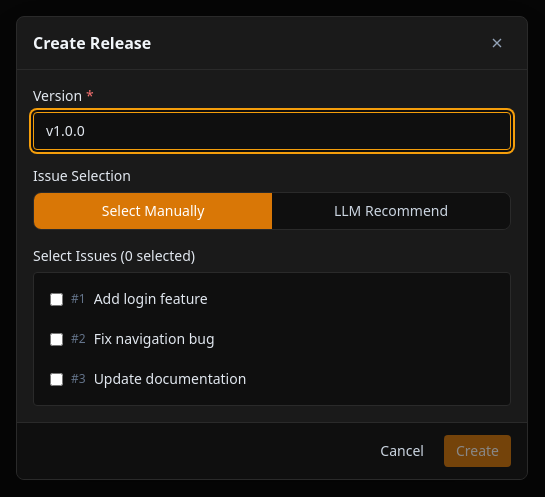
CreateReleaseDialog › Dialog actions › should have Create button enabled when version is valid and issue is selected
This screenshot has width=545, height=497.
Expected: the button "Create" is disabled, [444,435,511,467]
// Select an issue
Click the checkbox labelled "#1 Add login feature": click(56, 299) [50,292,63,306]
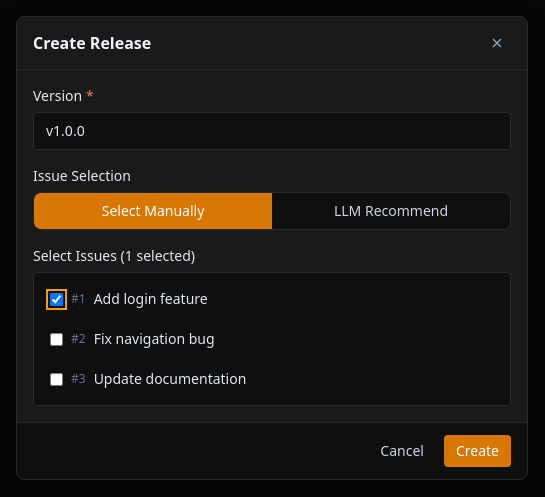
Expected: the button "Create" is enabled, [444,435,511,467]
